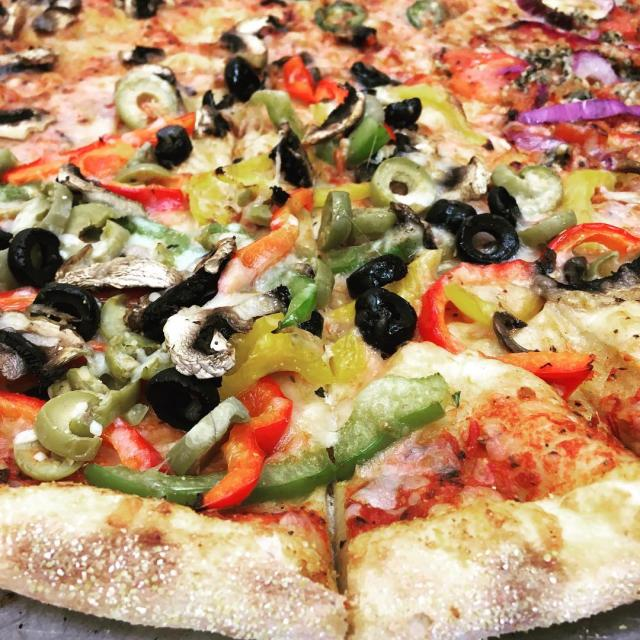black_olives: (145, 366, 223, 429), (352, 286, 416, 350), (29, 287, 101, 340), (7, 228, 63, 288), (455, 212, 518, 265), (346, 252, 406, 295), (222, 54, 262, 101), (422, 198, 476, 229), (154, 125, 193, 167), (487, 184, 523, 226), (383, 96, 425, 126), (350, 60, 394, 88), (563, 255, 590, 286), (202, 89, 237, 110), (205, 113, 234, 138)
green_olives: (162, 395, 252, 478), (31, 389, 103, 461), (13, 424, 90, 481), (62, 200, 132, 260), (371, 153, 438, 212), (112, 72, 182, 128), (488, 164, 565, 212), (12, 185, 73, 244), (108, 332, 164, 383), (316, 188, 358, 254), (518, 206, 580, 247), (98, 292, 133, 338), (351, 208, 399, 241)
mushrooms: (119, 235, 238, 345), (162, 297, 258, 380), (0, 309, 86, 379), (352, 129, 438, 186), (297, 82, 368, 150), (53, 259, 188, 290), (490, 308, 558, 362), (436, 153, 488, 201), (0, 104, 59, 143), (217, 30, 268, 70), (0, 48, 57, 78), (118, 42, 169, 65), (113, 0, 168, 21)
pizza: (0, 0, 640, 640)
